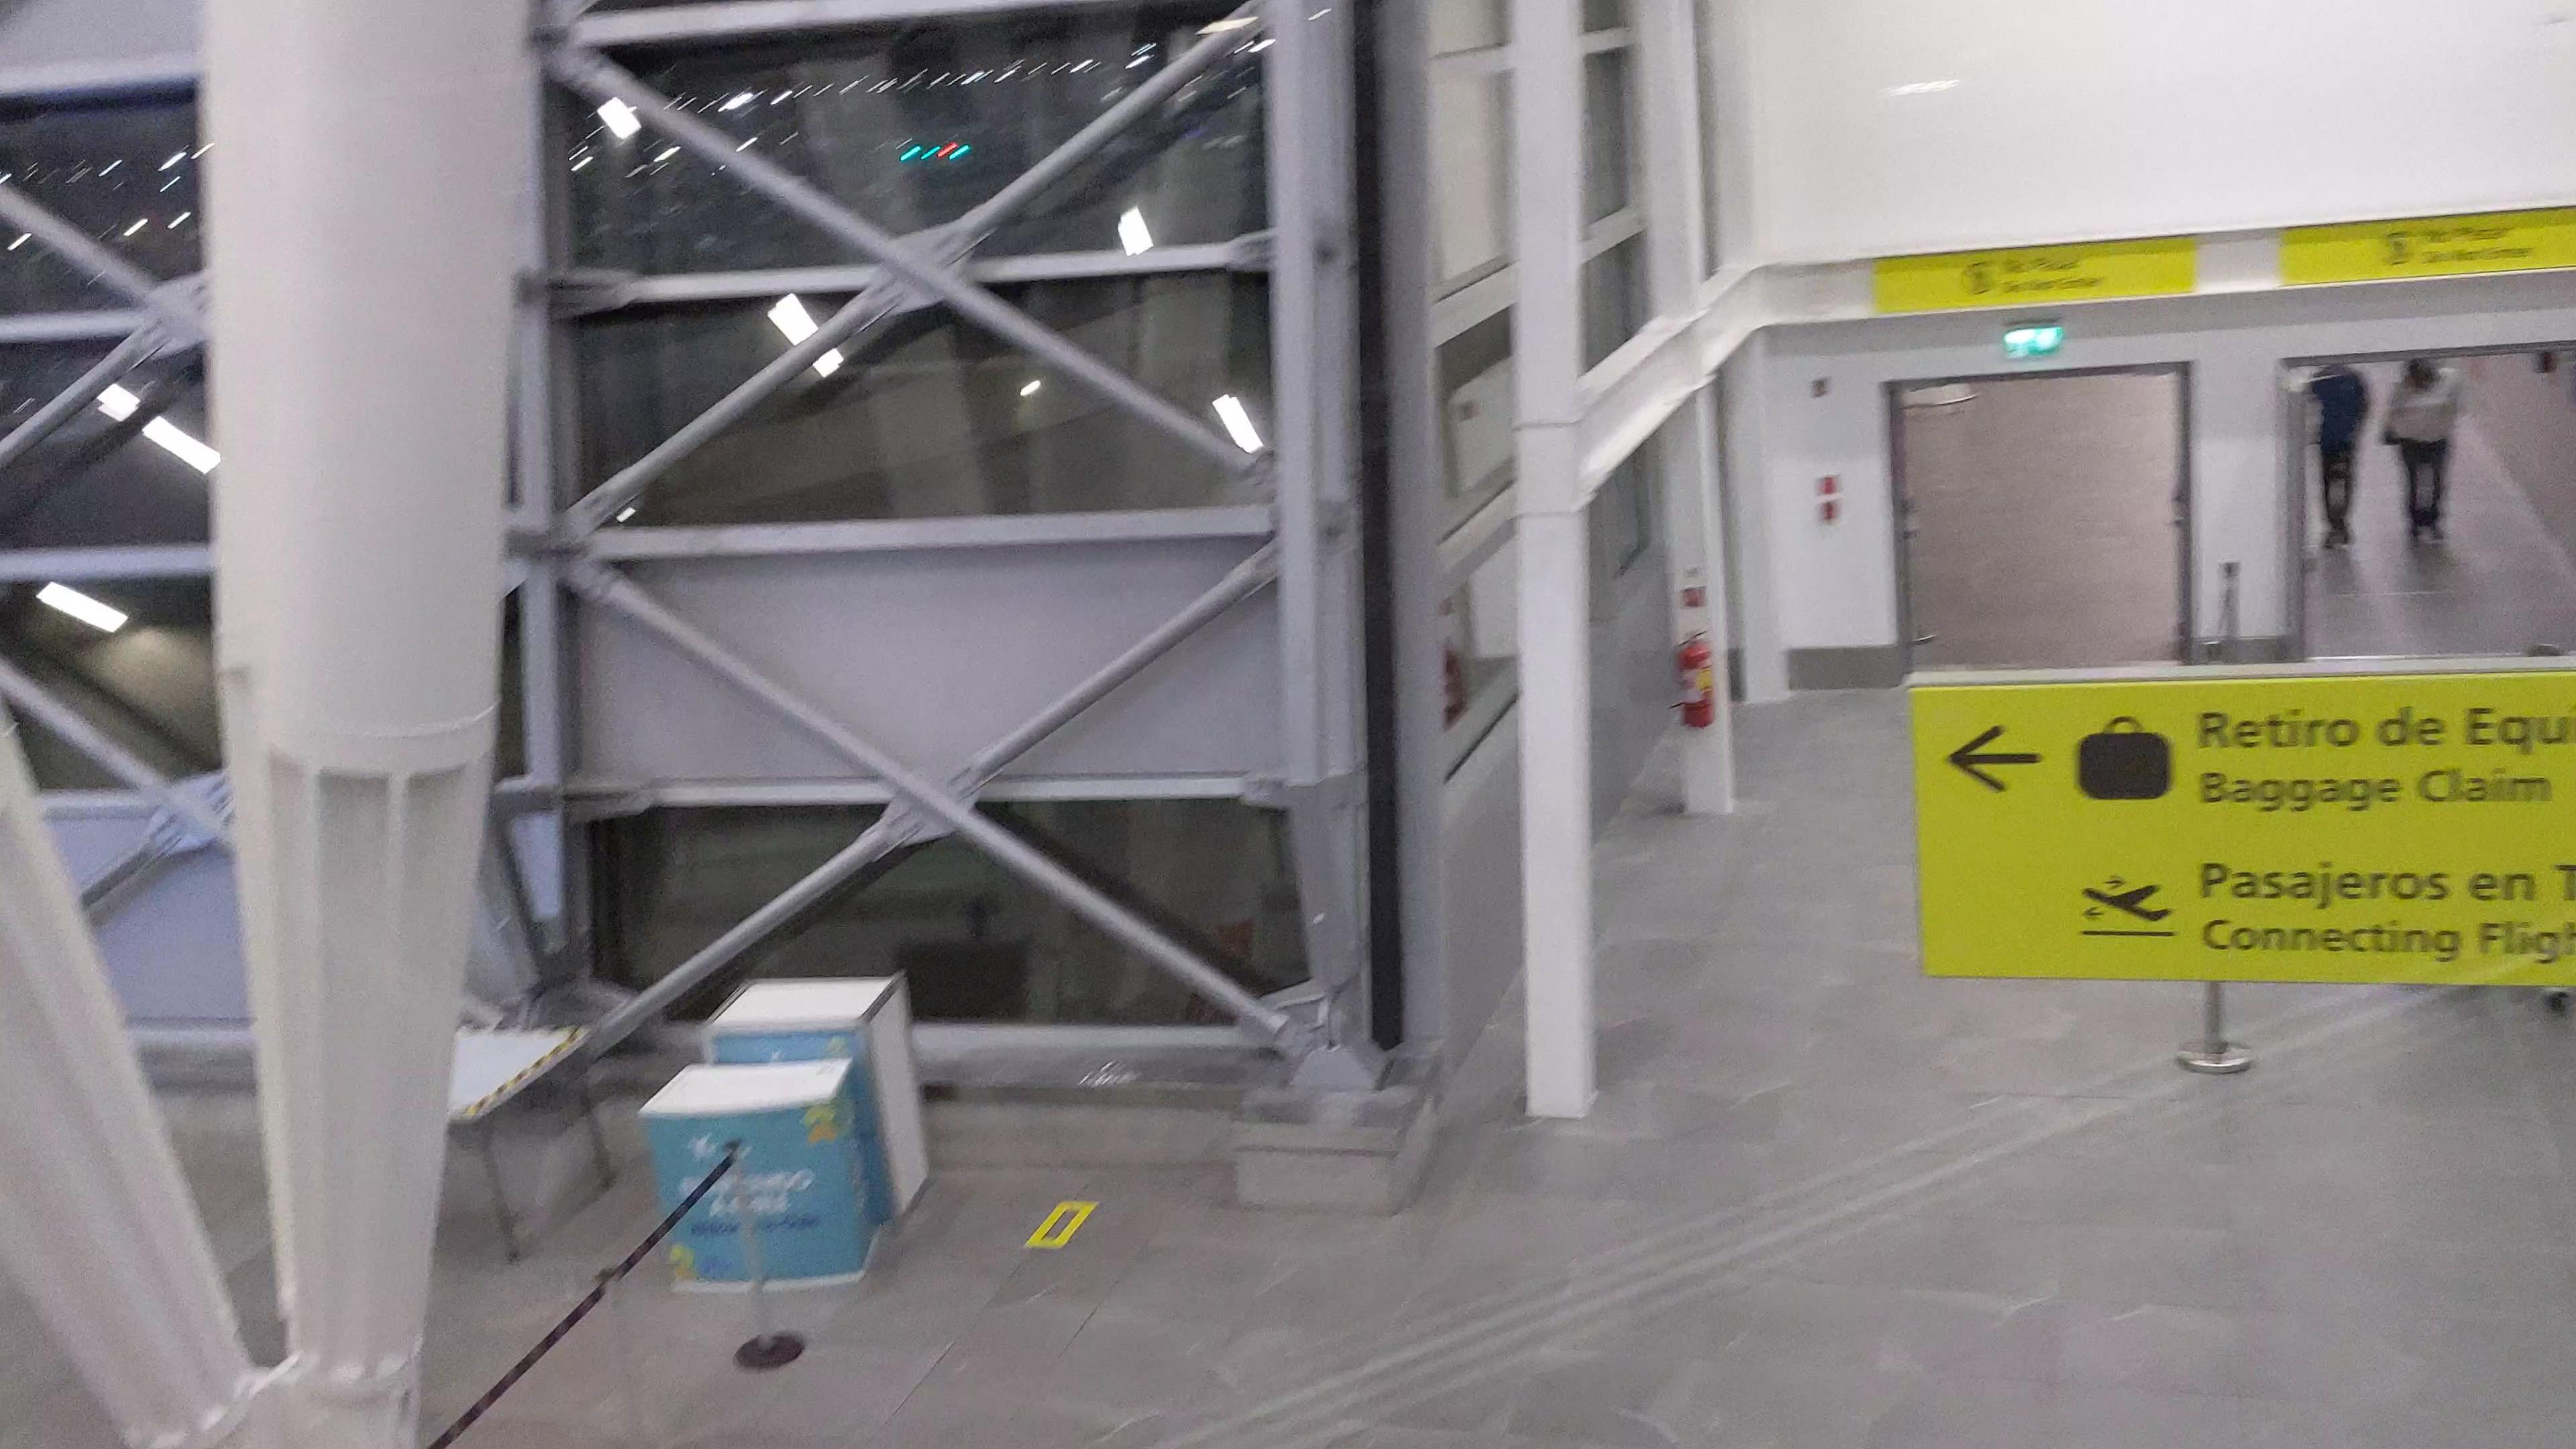airplane symbol: (2072, 883, 2187, 925)
baggage claim: (2074, 718, 2173, 807)
fire-extinguisher: (1668, 626, 1725, 736)
thin left arrow: (1946, 722, 2049, 794)
